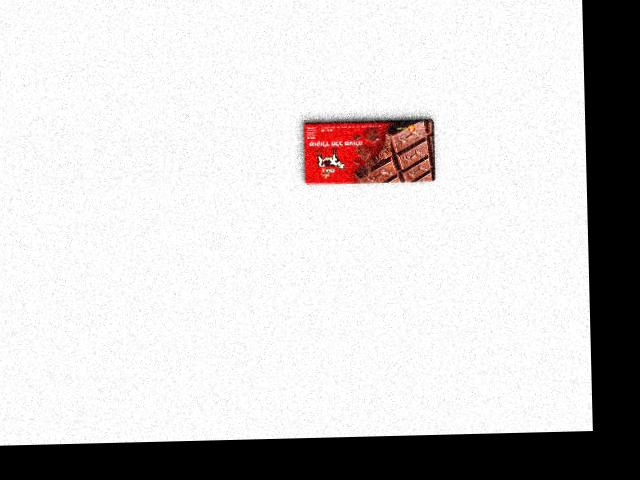chocolate: (299, 114, 437, 187)
